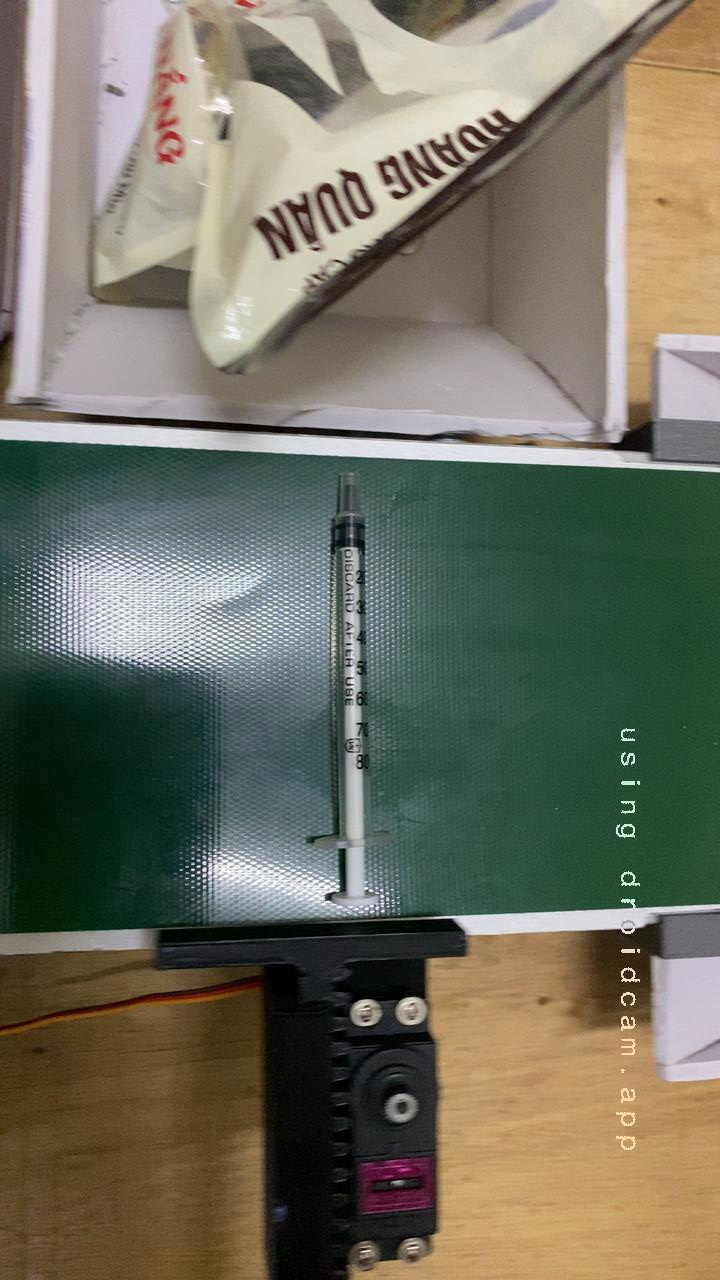syringe: (234, 490, 484, 941)
